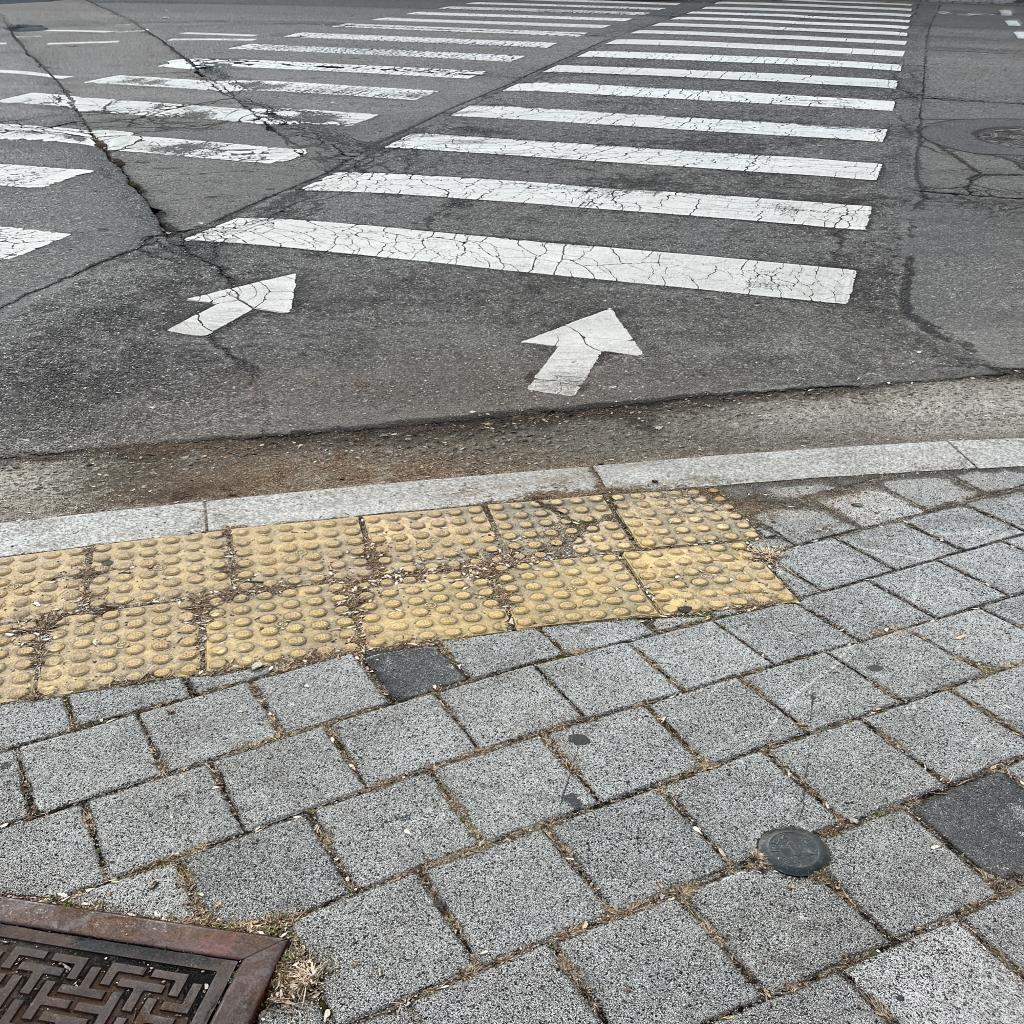Stop block broken: (488, 488, 635, 566)
Stop block normal: (197, 578, 362, 672), (81, 530, 233, 610)
